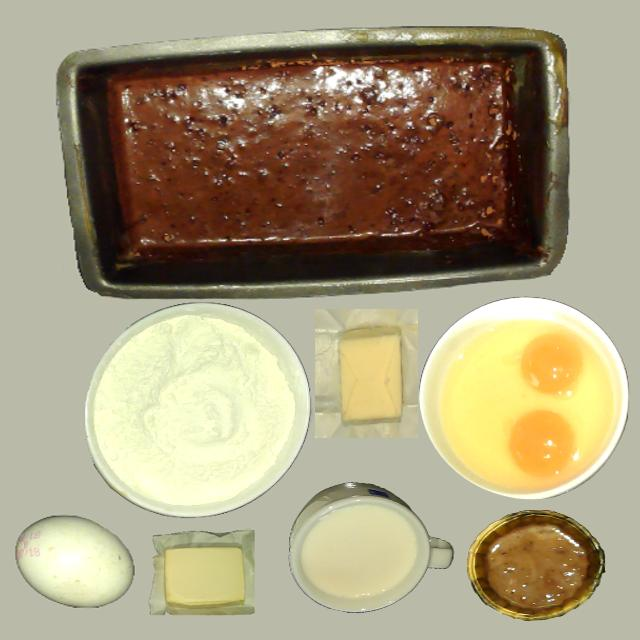Egg: (508, 410, 575, 476), (522, 334, 584, 394)
Flour: (84, 303, 303, 516)
Milk: (305, 507, 413, 598)
